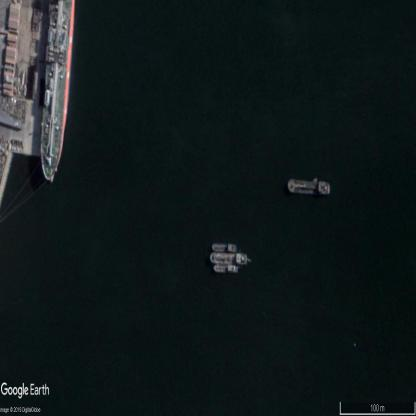ship: (41, 0, 74, 181), (288, 178, 330, 195), (209, 252, 248, 266), (211, 242, 236, 252), (214, 265, 239, 274)
